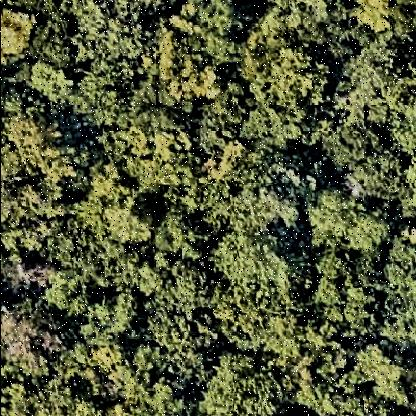tree-top: (31, 1, 145, 101), (154, 1, 243, 107), (144, 266, 223, 373), (215, 228, 303, 322), (1, 102, 79, 202), (197, 162, 298, 237), (115, 109, 197, 195), (312, 247, 385, 338), (267, 316, 346, 399), (342, 38, 414, 122), (304, 190, 390, 255), (199, 352, 285, 415), (345, 3, 415, 79), (57, 213, 121, 295), (1, 302, 69, 377), (264, 46, 332, 120), (73, 289, 141, 355), (1, 182, 60, 257), (106, 361, 185, 416), (243, 1, 335, 48), (381, 229, 416, 351), (347, 140, 409, 208), (144, 201, 211, 263), (3, 374, 97, 416), (235, 105, 308, 158), (350, 346, 412, 408), (104, 189, 162, 247), (26, 57, 80, 110), (197, 102, 241, 166), (349, 2, 416, 42), (1, 6, 37, 69), (1, 255, 62, 292), (391, 92, 416, 160)
